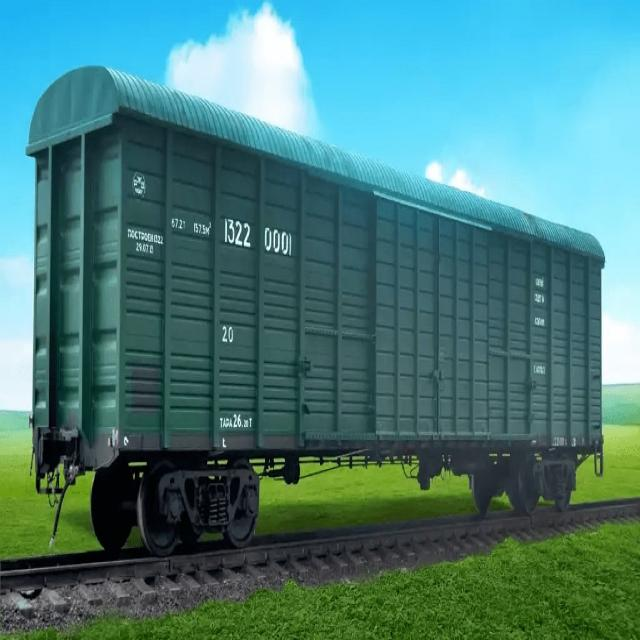boxcar: (17, 43, 614, 572)
